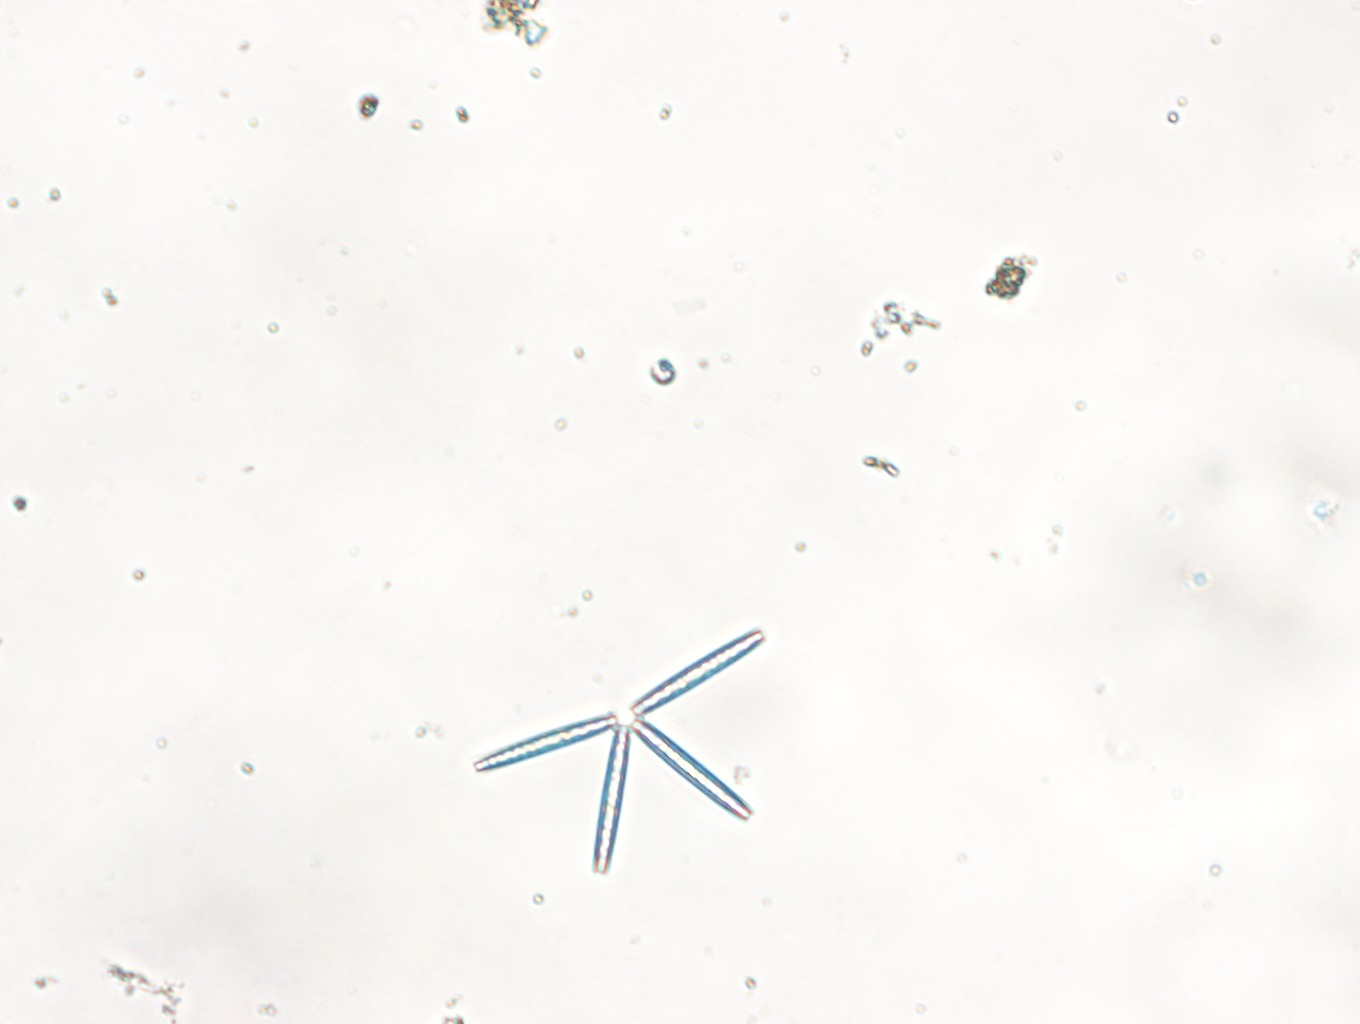thalassionema nitzschioides: (473, 630, 765, 871)
